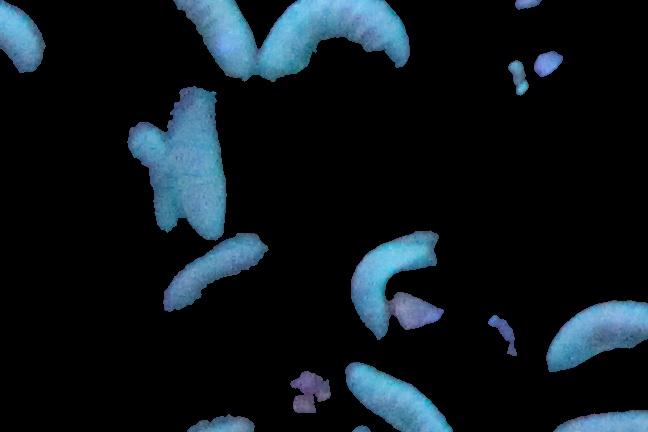larvae: (260, 1, 413, 80), (351, 228, 437, 337), (168, 89, 225, 240), (162, 232, 267, 312), (544, 298, 648, 376), (161, 1, 258, 82), (342, 364, 455, 432), (130, 120, 170, 231), (1, 1, 49, 73)
